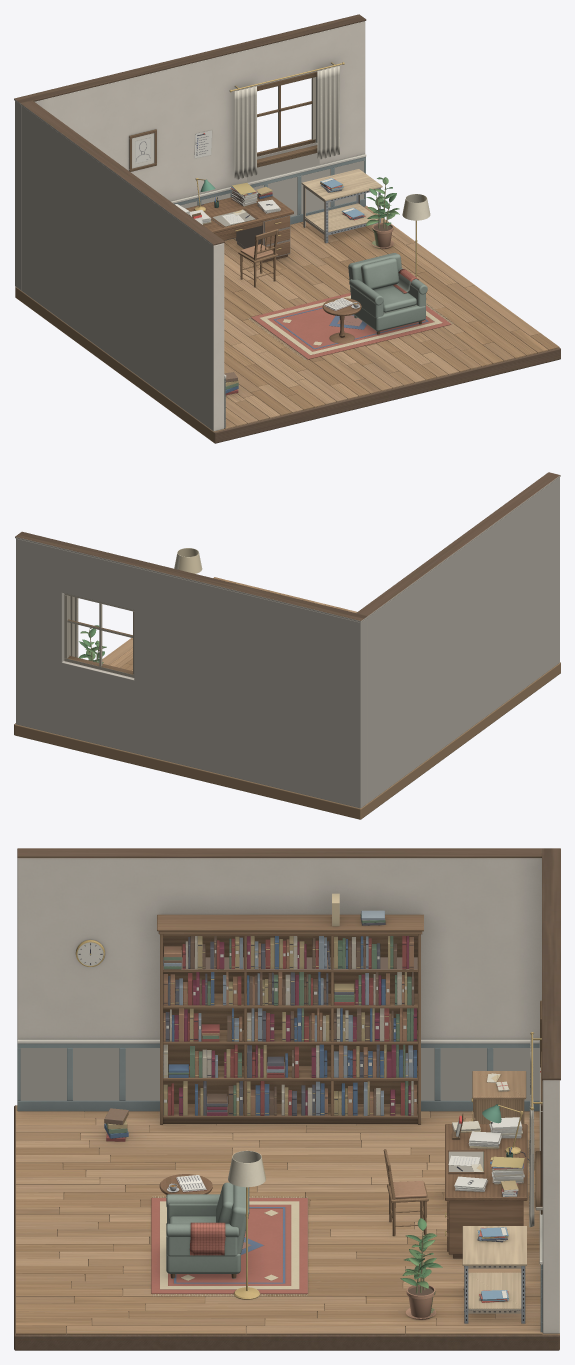
Rendered from study.glb.
3 renders of one model, top to bottom at view 1: azimuth 30°, elevation 25°; view 2: azimuth 150°, elevation 25°; view 3: azimuth 270°, elevation 25°, orthographic. The views are drawn at different scales.
Parts seen in each view (by area): view 1: room_walls, room_floor, room_window, rug, armchair, desk_papers, angle_bench, plant, chair, caricature, floor_lamp, side_table; view 2: room_walls, room_floor, room_window, floor_lamp, plant; view 3: room_walls, room_floor, bookshelf, rug, desk_papers, armchair, angle_bench, drawer_body, plant, room_window, floor_lamp, chair (+3 smaller).
Part boxes in pixels (x1,y1,x2,y2): room_walls: (14, 14, 366, 431); room_floor: (15, 205, 560, 443); room_window: (229, 62, 344, 179); rug: (248, 293, 453, 359); armchair: (348, 253, 427, 334); desk_papers: (175, 183, 293, 262); angle_bench: (301, 169, 382, 243); plant: (366, 177, 399, 248); chair: (238, 229, 278, 287); caricature: (129, 129, 156, 171); floor_lamp: (402, 194, 430, 277); side_table: (322, 298, 361, 343); room_walls: (15, 472, 560, 808); room_floor: (14, 577, 560, 819); room_window: (64, 593, 134, 677); floor_lamp: (174, 548, 202, 573); plant: (79, 625, 106, 663); room_walls: (17, 848, 560, 1333); room_floor: (14, 1105, 559, 1350); bookshelf: (157, 893, 423, 1124); rug: (151, 1196, 307, 1296); desk_papers: (445, 1117, 527, 1258); armchair: (166, 1182, 249, 1278); angle_bench: (462, 1226, 526, 1323); drawer_body: (471, 1071, 526, 1123); plant: (400, 1218, 442, 1319); room_window: (529, 1032, 542, 1227); floor_lamp: (228, 1150, 265, 1299); chair: (383, 1149, 428, 1236).
Size of the model in its own units: 6.29 by 3.45 by 6.29.
Materials: 71 (56 with a texture image).
